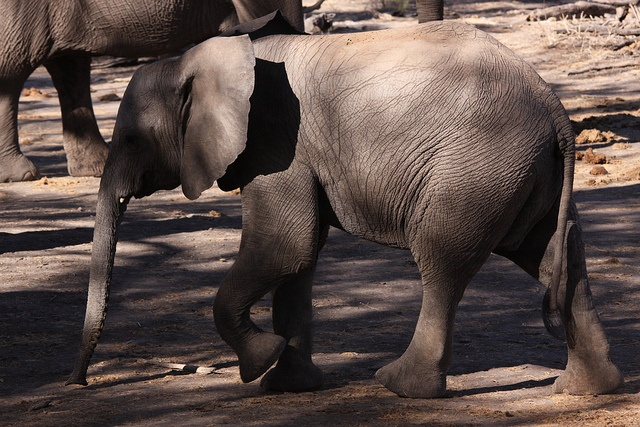elephant: (67, 19, 627, 397), (1, 1, 323, 183)
